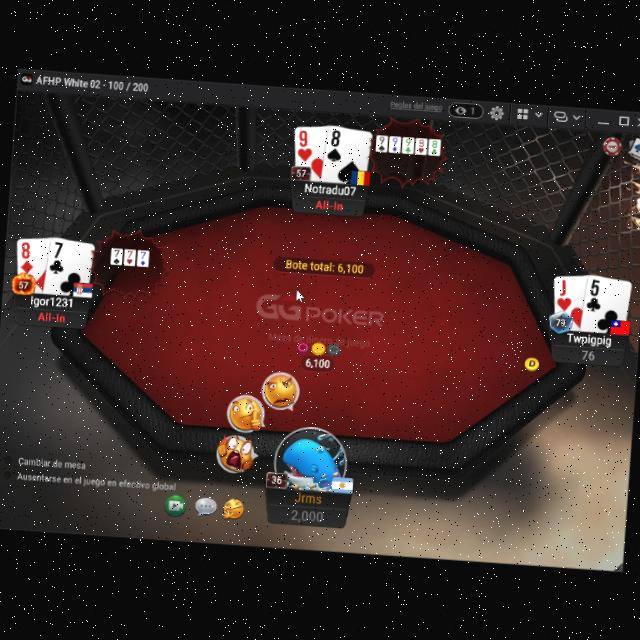5c: (584, 275, 605, 313)
7c: (46, 238, 68, 275)
8d: (18, 238, 36, 274)
8s: (326, 128, 342, 163)
9h: (295, 127, 315, 162)
Jh: (555, 277, 574, 313)
all_in_symbol: (313, 196, 345, 212), (37, 308, 66, 322)
bet_text: (302, 354, 332, 370)
dealer: (522, 354, 542, 372)
pot_text: (282, 256, 366, 274)
stack_text: (288, 504, 326, 524), (580, 348, 596, 362)
